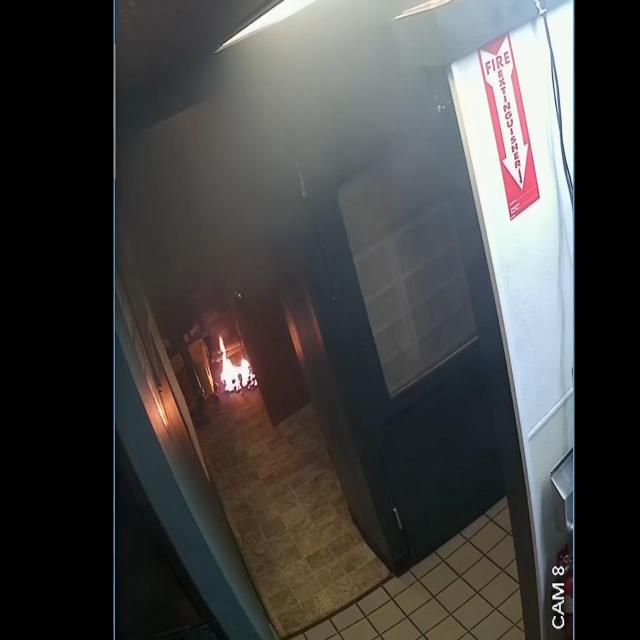fire: (218, 335, 258, 392)
